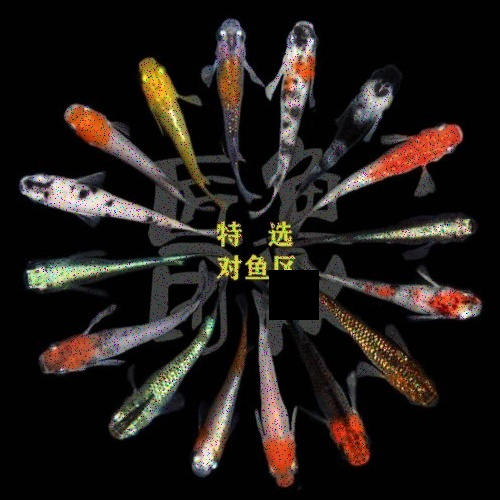fry: (17, 163, 162, 235), (196, 14, 266, 160), (342, 319, 446, 411), (334, 268, 490, 328), (299, 353, 377, 470), (245, 352, 308, 490), (127, 53, 203, 164), (268, 11, 323, 162), (3, 247, 167, 296), (29, 326, 174, 379), (180, 367, 243, 482), (101, 368, 189, 448), (58, 98, 144, 171), (345, 214, 490, 256), (386, 120, 465, 193), (329, 67, 393, 143)
